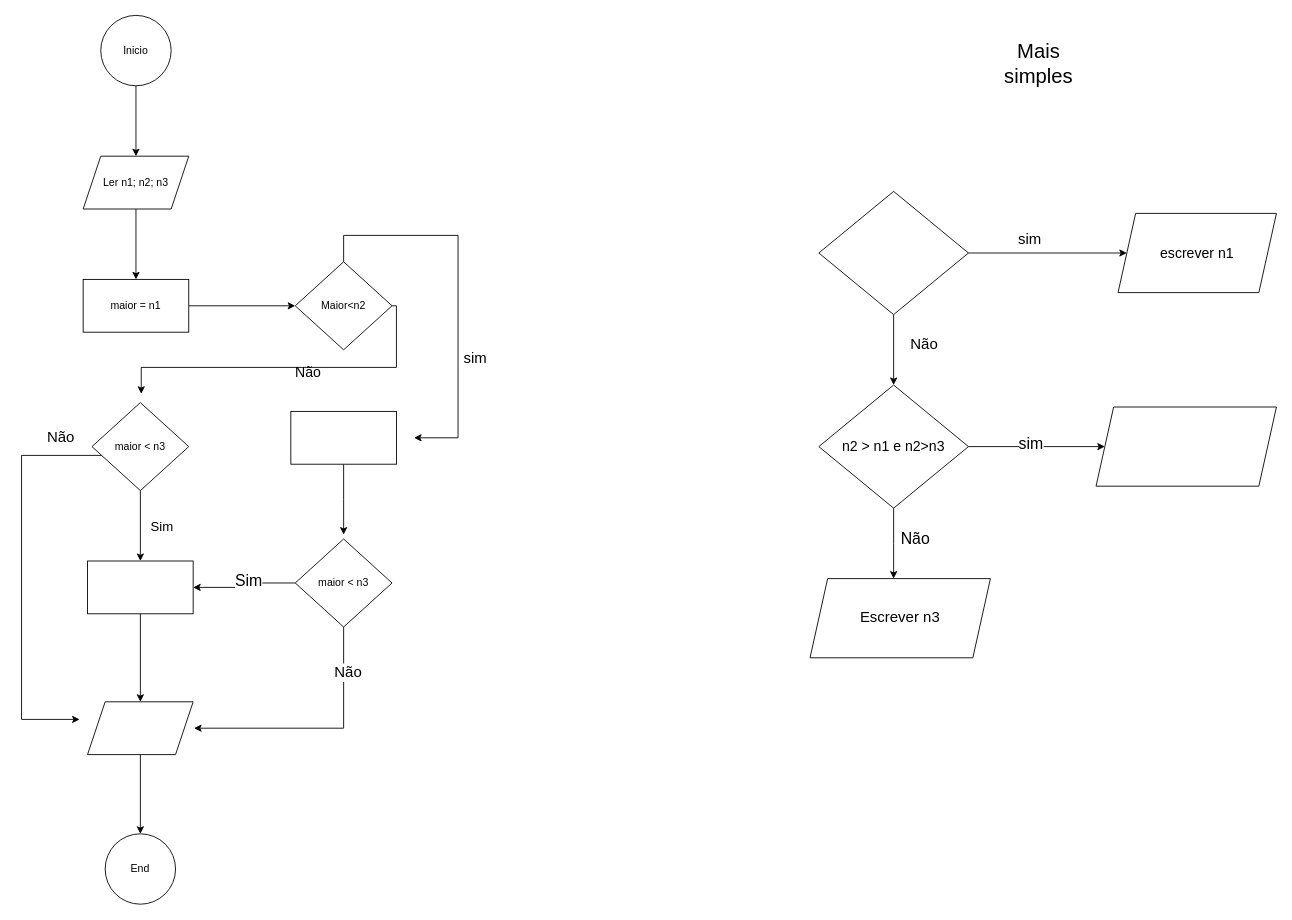
The diagram is 1292 pixels wide and 920 high, and some of its shapes have lost their labels. Each missing label, with the centre of its shape:
"Escrever n2" belongs at pixel 1185 446.
"maior = n2" belongs at pixel 343 437.
"maior = n3" belongs at pixel 140 587.
"Mostrar maior" belongs at pixel 140 728.
"n1 > n2 e n1>n3" belongs at pixel 893 253.
